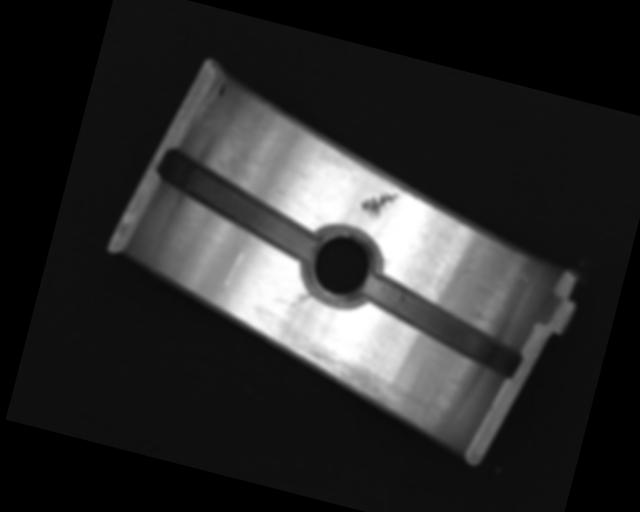blot: (217, 80, 227, 99)
bruise: (357, 185, 400, 224), (453, 262, 476, 278), (517, 271, 533, 284)
gap: (149, 148, 327, 263), (352, 277, 531, 378)
hole: (295, 222, 387, 314)
nick: (216, 250, 245, 313), (290, 290, 313, 310)
scratch: (279, 335, 442, 431)
